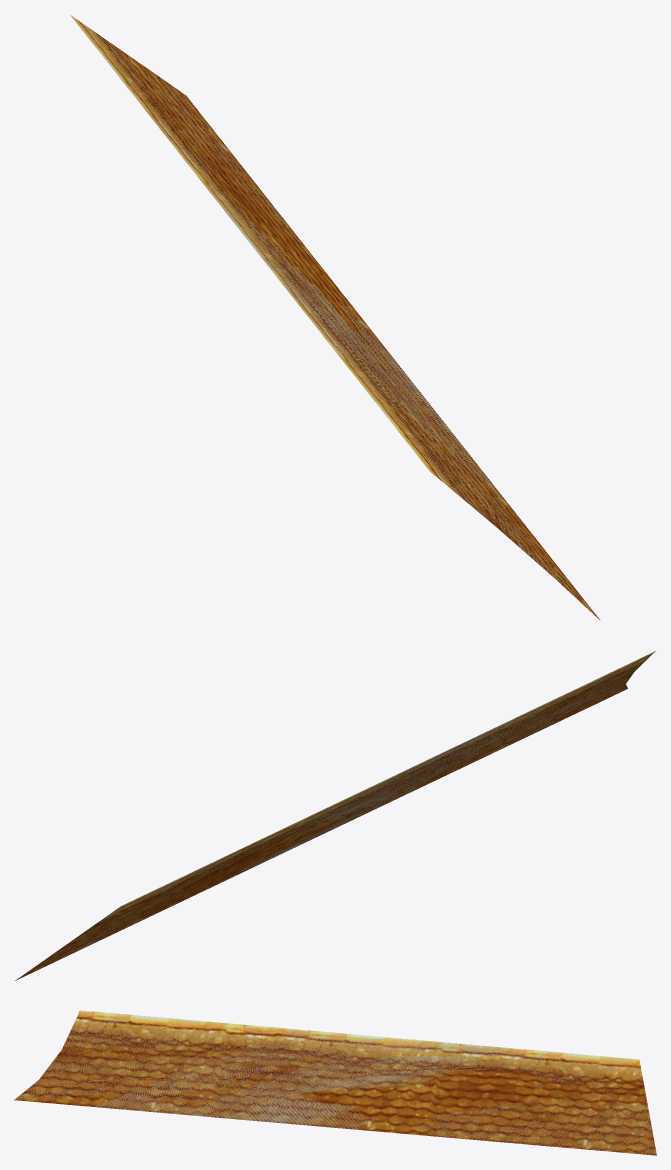
File: 西庸城堡527.dae
3 renders of one model, top to bottom at view 1: azimuth 30°, elevation 25°; view 2: azimuth 150°, elevation 25°; view 3: azimuth 270°, elevation 25°, orthographic. The views are drawn at different scales.
Visible parts, largest first — view 1: SketchUp; view 2: SketchUp; view 3: SketchUp.
Part boxes in pixels (<box>): SketchUp: <box>70,15,600,620</box>; SketchUp: <box>15,651,655,980</box>; SketchUp: <box>14,1010,656,1155</box>.
Size of the model in its own units: 107 by 357 by 39.2.
